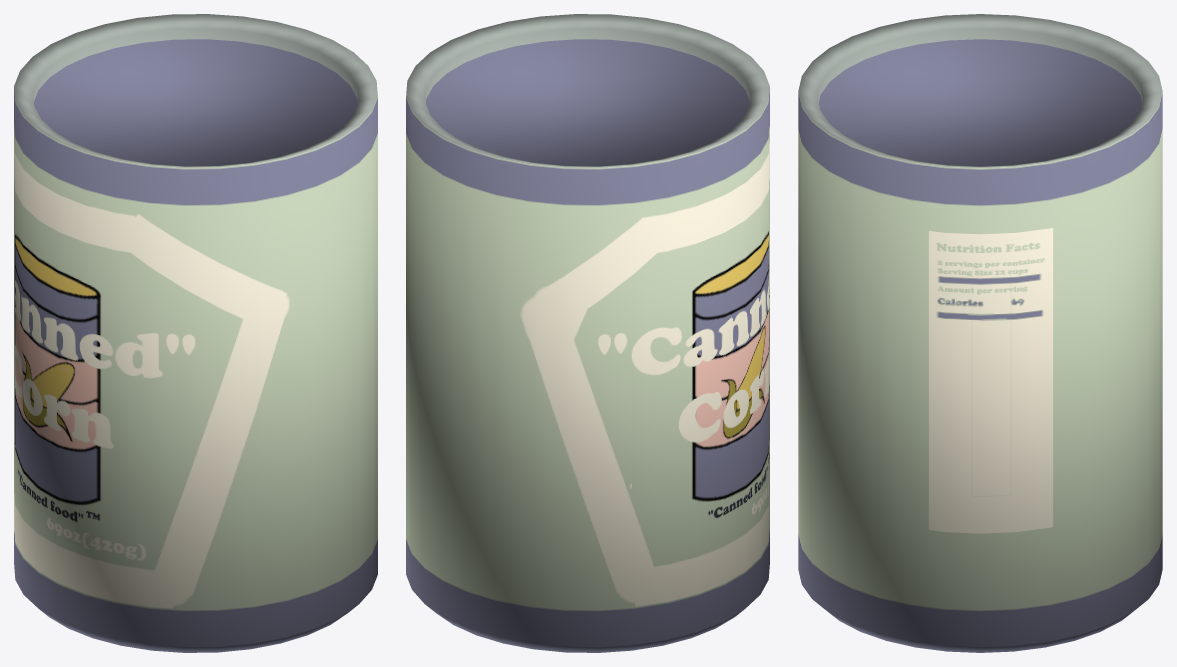
File: Canned.fbx
3 renders of one model, left to right at view 1: azimuth 30°, elevation 25°; view 2: azimuth 150°, elevation 25°; view 3: azimuth 270°, elevation 25°, orthographic.
Parts seen in each view (by area): view 1: Canned; view 2: Canned; view 3: Canned.
Part boxes in pixels (x1,y1,x2,y2): Canned: (14,14,377,652); Canned: (406,14,769,652); Canned: (798,14,1162,652).
Size of the model in its own units: 50 by 74.28 by 50.
1 material, 1 textured.
